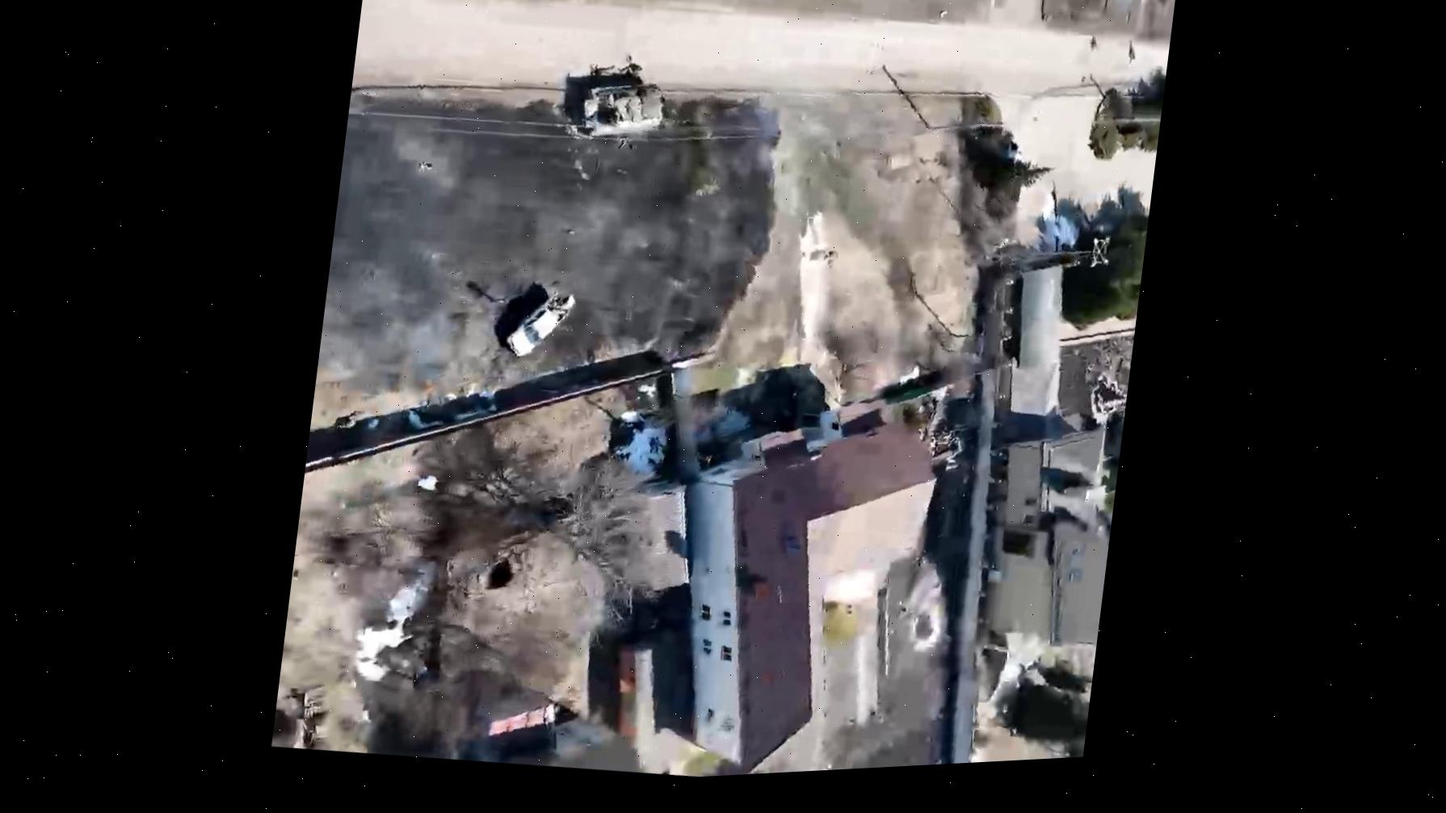car: (503, 283, 576, 364)
tank: (577, 74, 665, 146)
